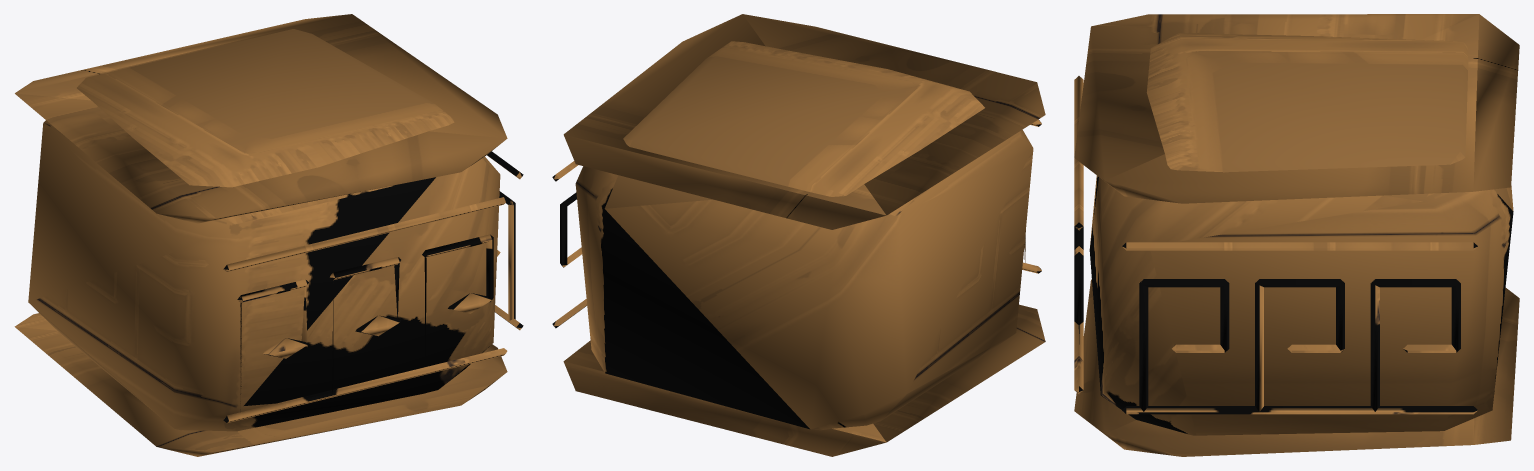
File: Atalanta_BrazaleteIzq.fbx
3 renders of one model, left to right at view 1: azimuth 30°, elevation 25°; view 2: azimuth 150°, elevation 25°; view 3: azimuth 270°, elevation 25°, orthographic. The views are drawn at different scales.
Parts seen in each view (by area): view 1: Atalanta_BrazaleteIzq; view 2: Atalanta_BrazaleteIzq; view 3: Atalanta_BrazaleteIzq.
Boxes of the visible parts, x1,y1,x2,y2 form: Atalanta_BrazaleteIzq: (14, 14, 523, 456); Atalanta_BrazaleteIzq: (552, 14, 1045, 456); Atalanta_BrazaleteIzq: (1074, 14, 1519, 456).
Size of the model in its own units: 1.22 by 0.8877 by 1.21.
